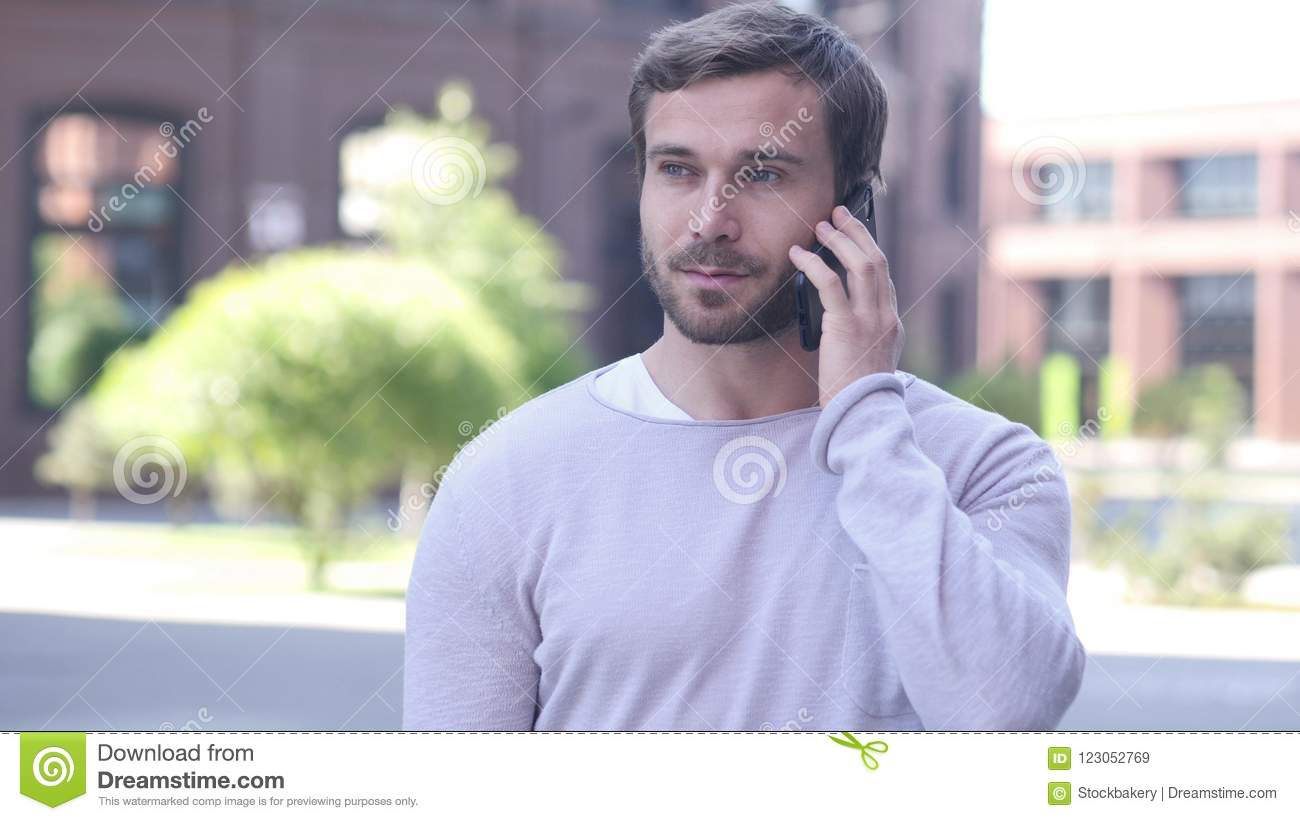phone: (791, 178, 880, 355)
talk: (637, 135, 909, 409)
